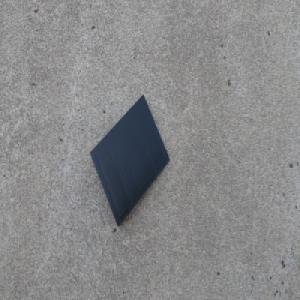PlasticPart: (89, 92, 170, 227)
